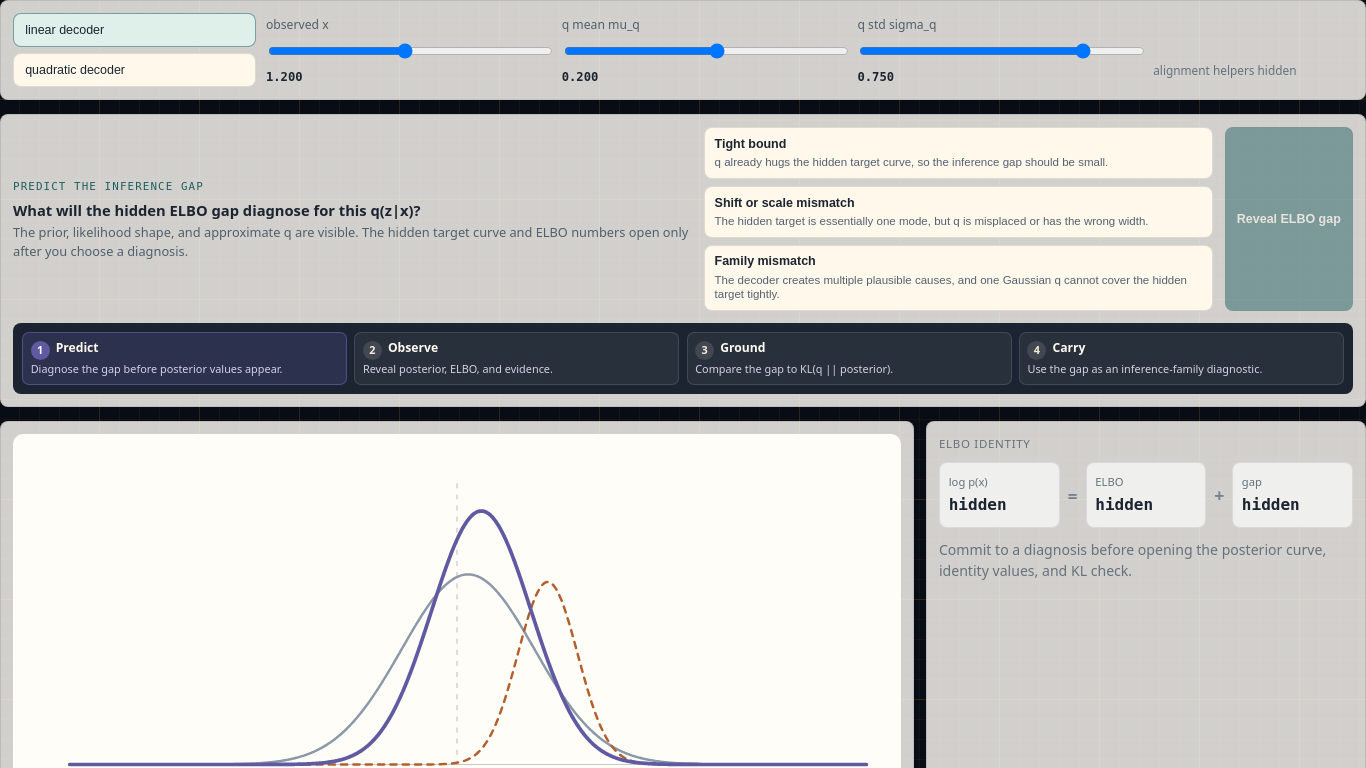
Test: VAEsDemo ELBO gap reveal › hides posterior and ELBO diagnostics before reveal and requires a prediction
expect the text "predict the inference gap" is shown: met, box left=13, top=180, right=204, bottom=193
expect the button "Reveal ELBO gap" is disabled: met, box left=1225, top=127, right=1353, bottom=311
Click the button "Shift or scale mismatch" at (958, 212), box left=704, top=186, right=1213, bottom=238
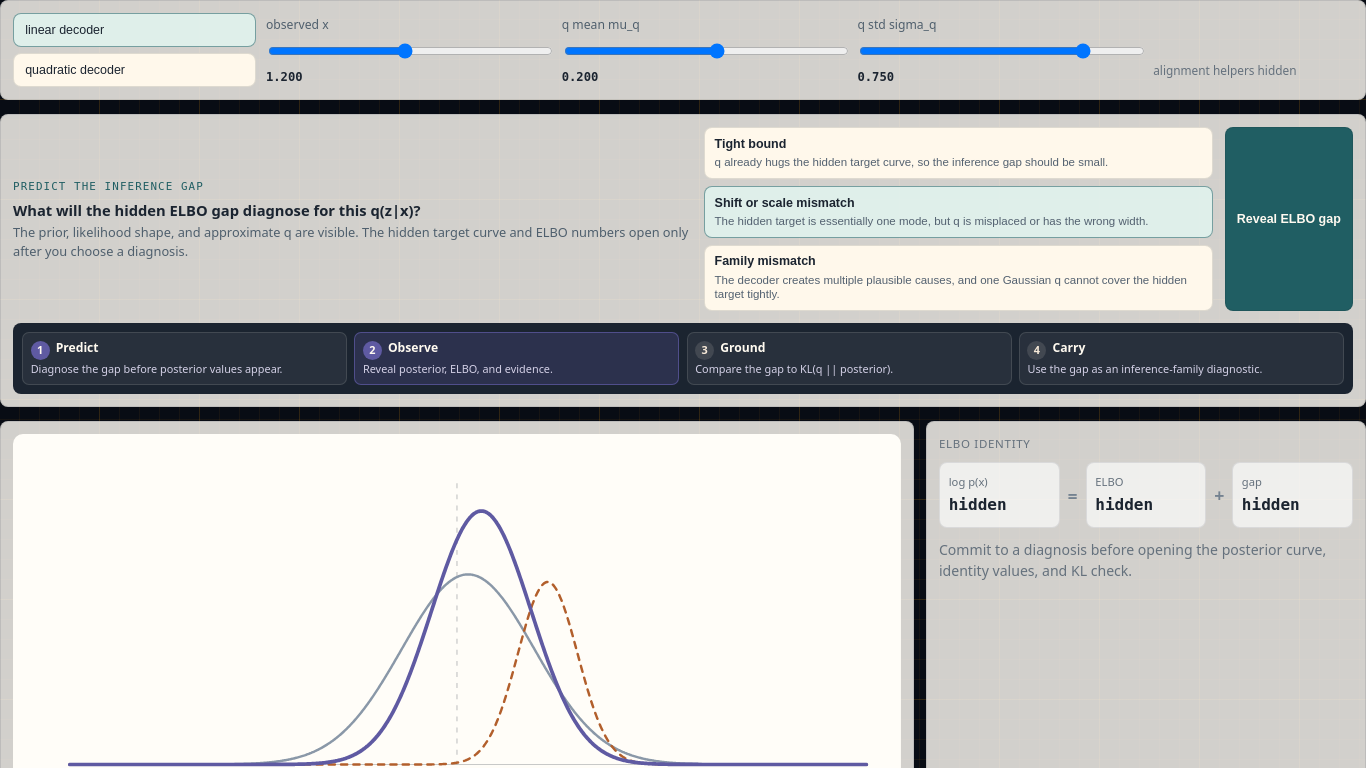
expect the button "Reveal ELBO gap" is enabled: met, box left=1225, top=127, right=1353, bottom=311
